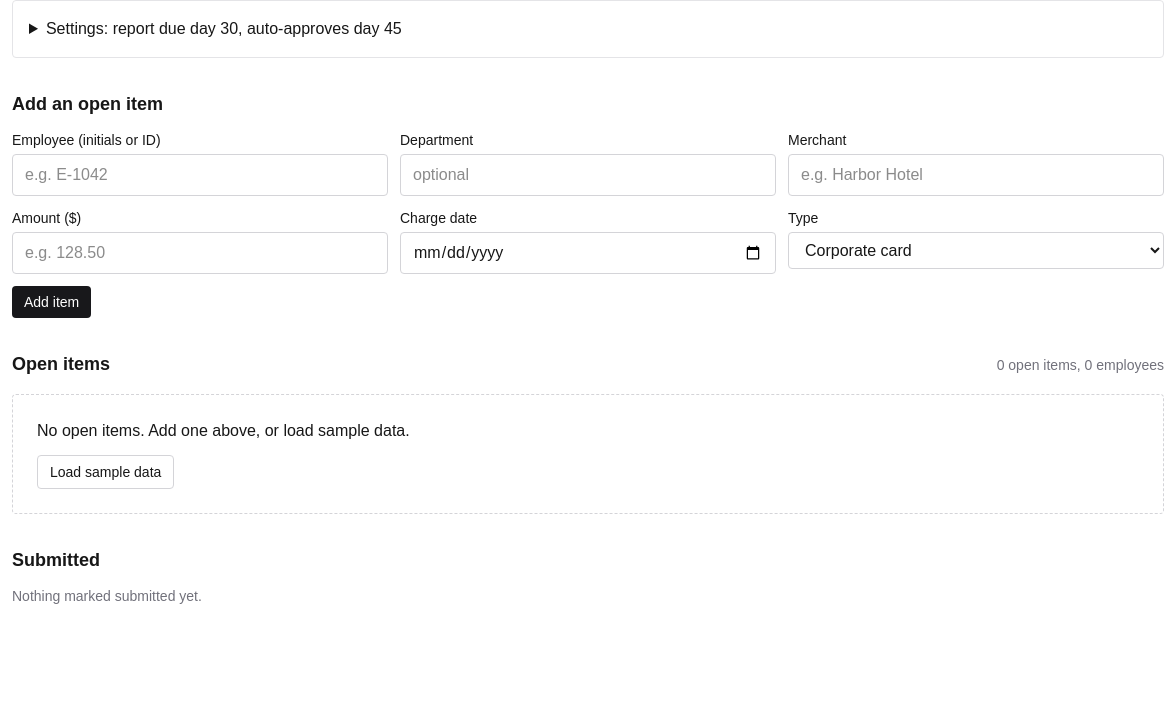
Test: Tracker › names missing fields and does not save (S1 criterion 6)
The image size is (1176, 720).
Check: the heading "Add an open item" is shown, box [12,94,163,114]
Step 1. Click the button "Add item" → (52, 302), box [12,286,91,318]
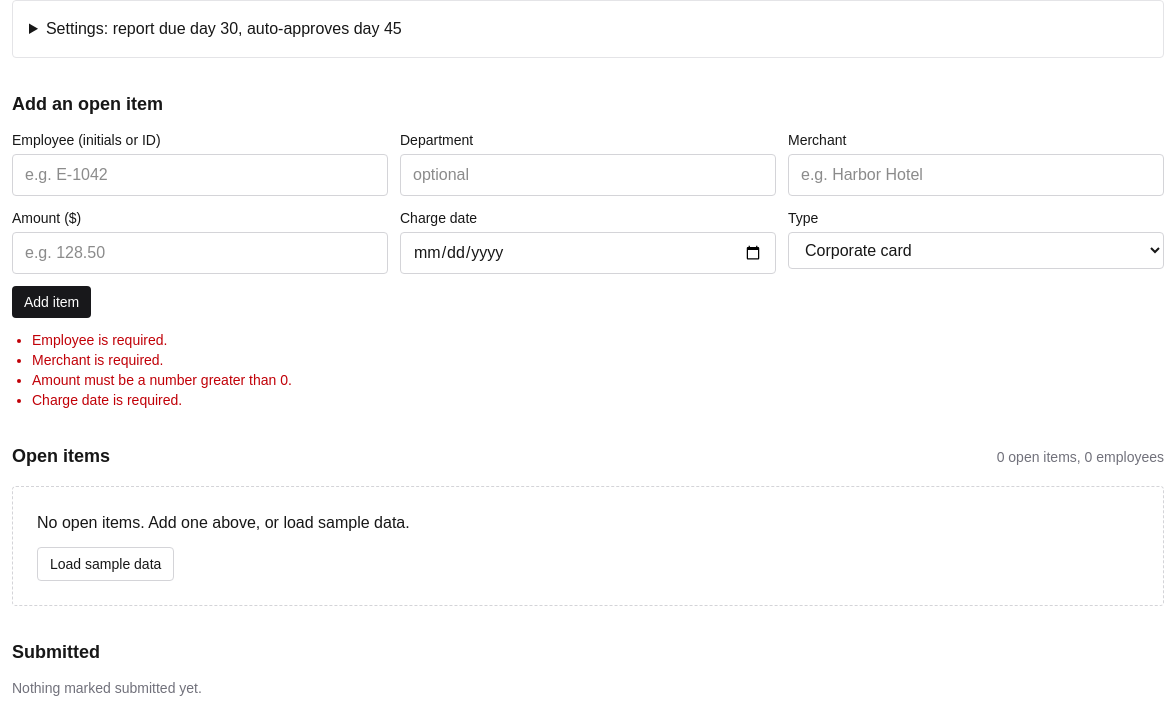
Check: the text "0 open items, 0 employees" is shown, box [997,447,1164,467]
Check: the list item "Employee is required." is shown, box [32,332,167,348]
Check: the list item "Merchant is required." is shown, box [32,352,164,368]
